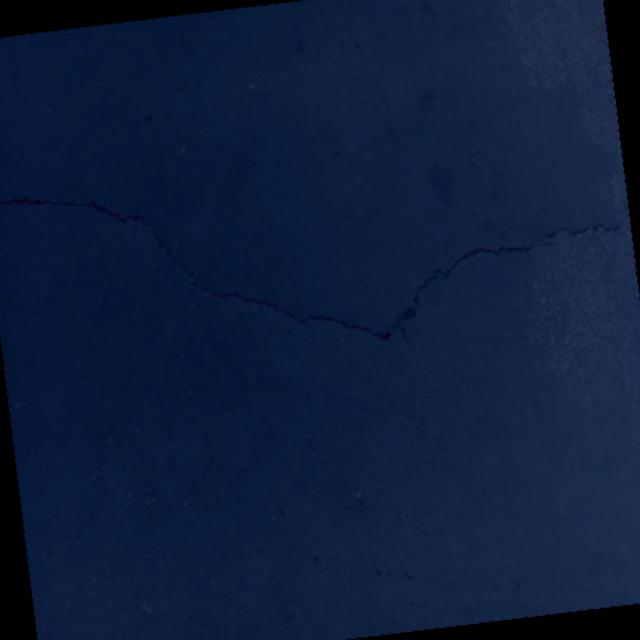crack: (0, 79, 640, 404), (230, 332, 476, 479)
